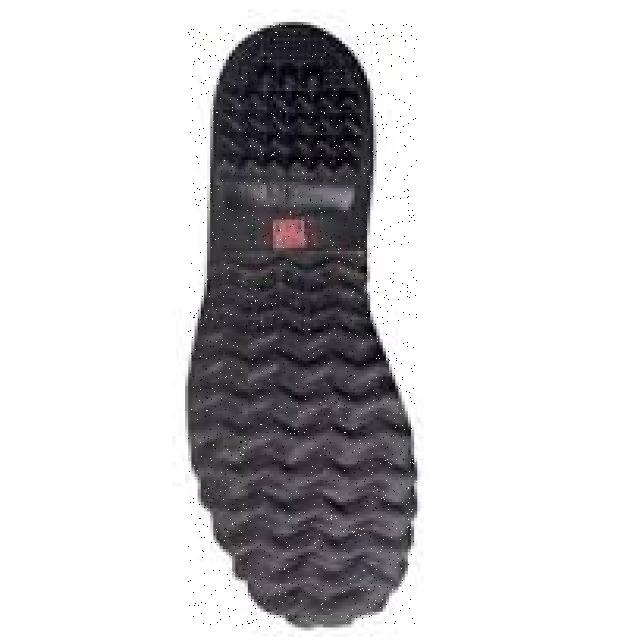other: (188, 24, 417, 627)
